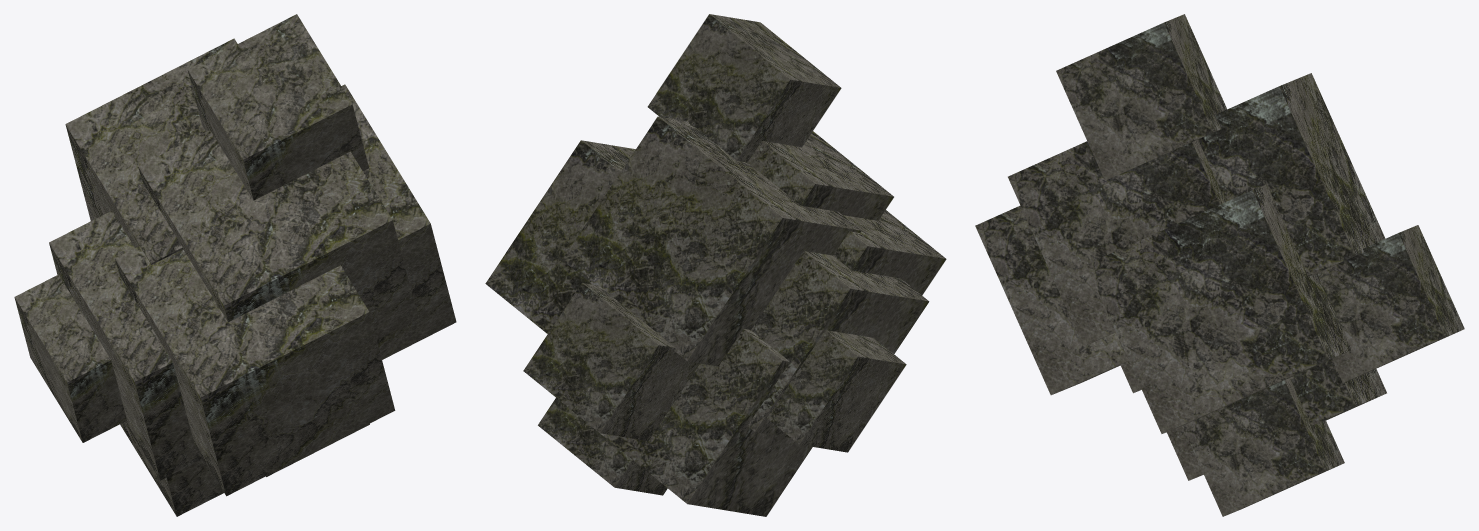
File: CubeOre.glb
3 views of the same model, side by side, from view 1: azimuth 30°, elevation 25°; view 2: azimuth 150°, elevation 25°; view 3: azimuth 270°, elevation 25° (orthographic). The views are drawn at different scales.
Visible parts, largest first — view 1: Cube.003, Cube.004, Cube.006, Cube, Cube.001, Cube.008, Cube.005, Cube.002; view 2: Cube.001, Cube.002, Cube.006, Cube.007, Cube, Cube.005, Cube.008, Cube.004, Cube.003, Cube.010; view 3: Cube.005, Cube.004, Cube.001, Cube.006, Cube.007, Cube.010, Cube.003, Cube.002.
Boxes of the visible parts, x1,y1,x2,y2 form: Cube.003: [115, 246, 395, 496]; Cube.004: [138, 130, 418, 339]; Cube.006: [187, 14, 368, 200]; Cube: [49, 210, 202, 480]; Cube.001: [65, 38, 237, 264]; Cube.008: [14, 274, 126, 442]; Cube.005: [341, 84, 456, 359]; Cube.002: [120, 422, 223, 516]; Cube.001: [562, 116, 861, 366]; Cube.002: [563, 329, 812, 516]; Cube.006: [647, 14, 841, 162]; Cube.007: [523, 283, 699, 440]; Cube: [747, 251, 929, 437]; Cube.005: [485, 140, 635, 333]; Cube.008: [767, 330, 906, 452]; Cube.004: [747, 131, 893, 220]; Cube.003: [833, 210, 946, 295]; Cube.010: [538, 398, 667, 495]; Cube.005: [1086, 184, 1351, 433]; Cube.004: [1008, 139, 1225, 346]; Cube.001: [1198, 73, 1385, 276]; Cube.006: [1056, 14, 1227, 180]; Cube.007: [1317, 225, 1464, 382]; Cube.010: [1182, 378, 1344, 516]; Cube.003: [975, 205, 1128, 395]; Cube.002: [1167, 359, 1386, 480].
Size of the model in its own units: 2.38 by 3.01 by 2.73.
1 material, 1 textured.
